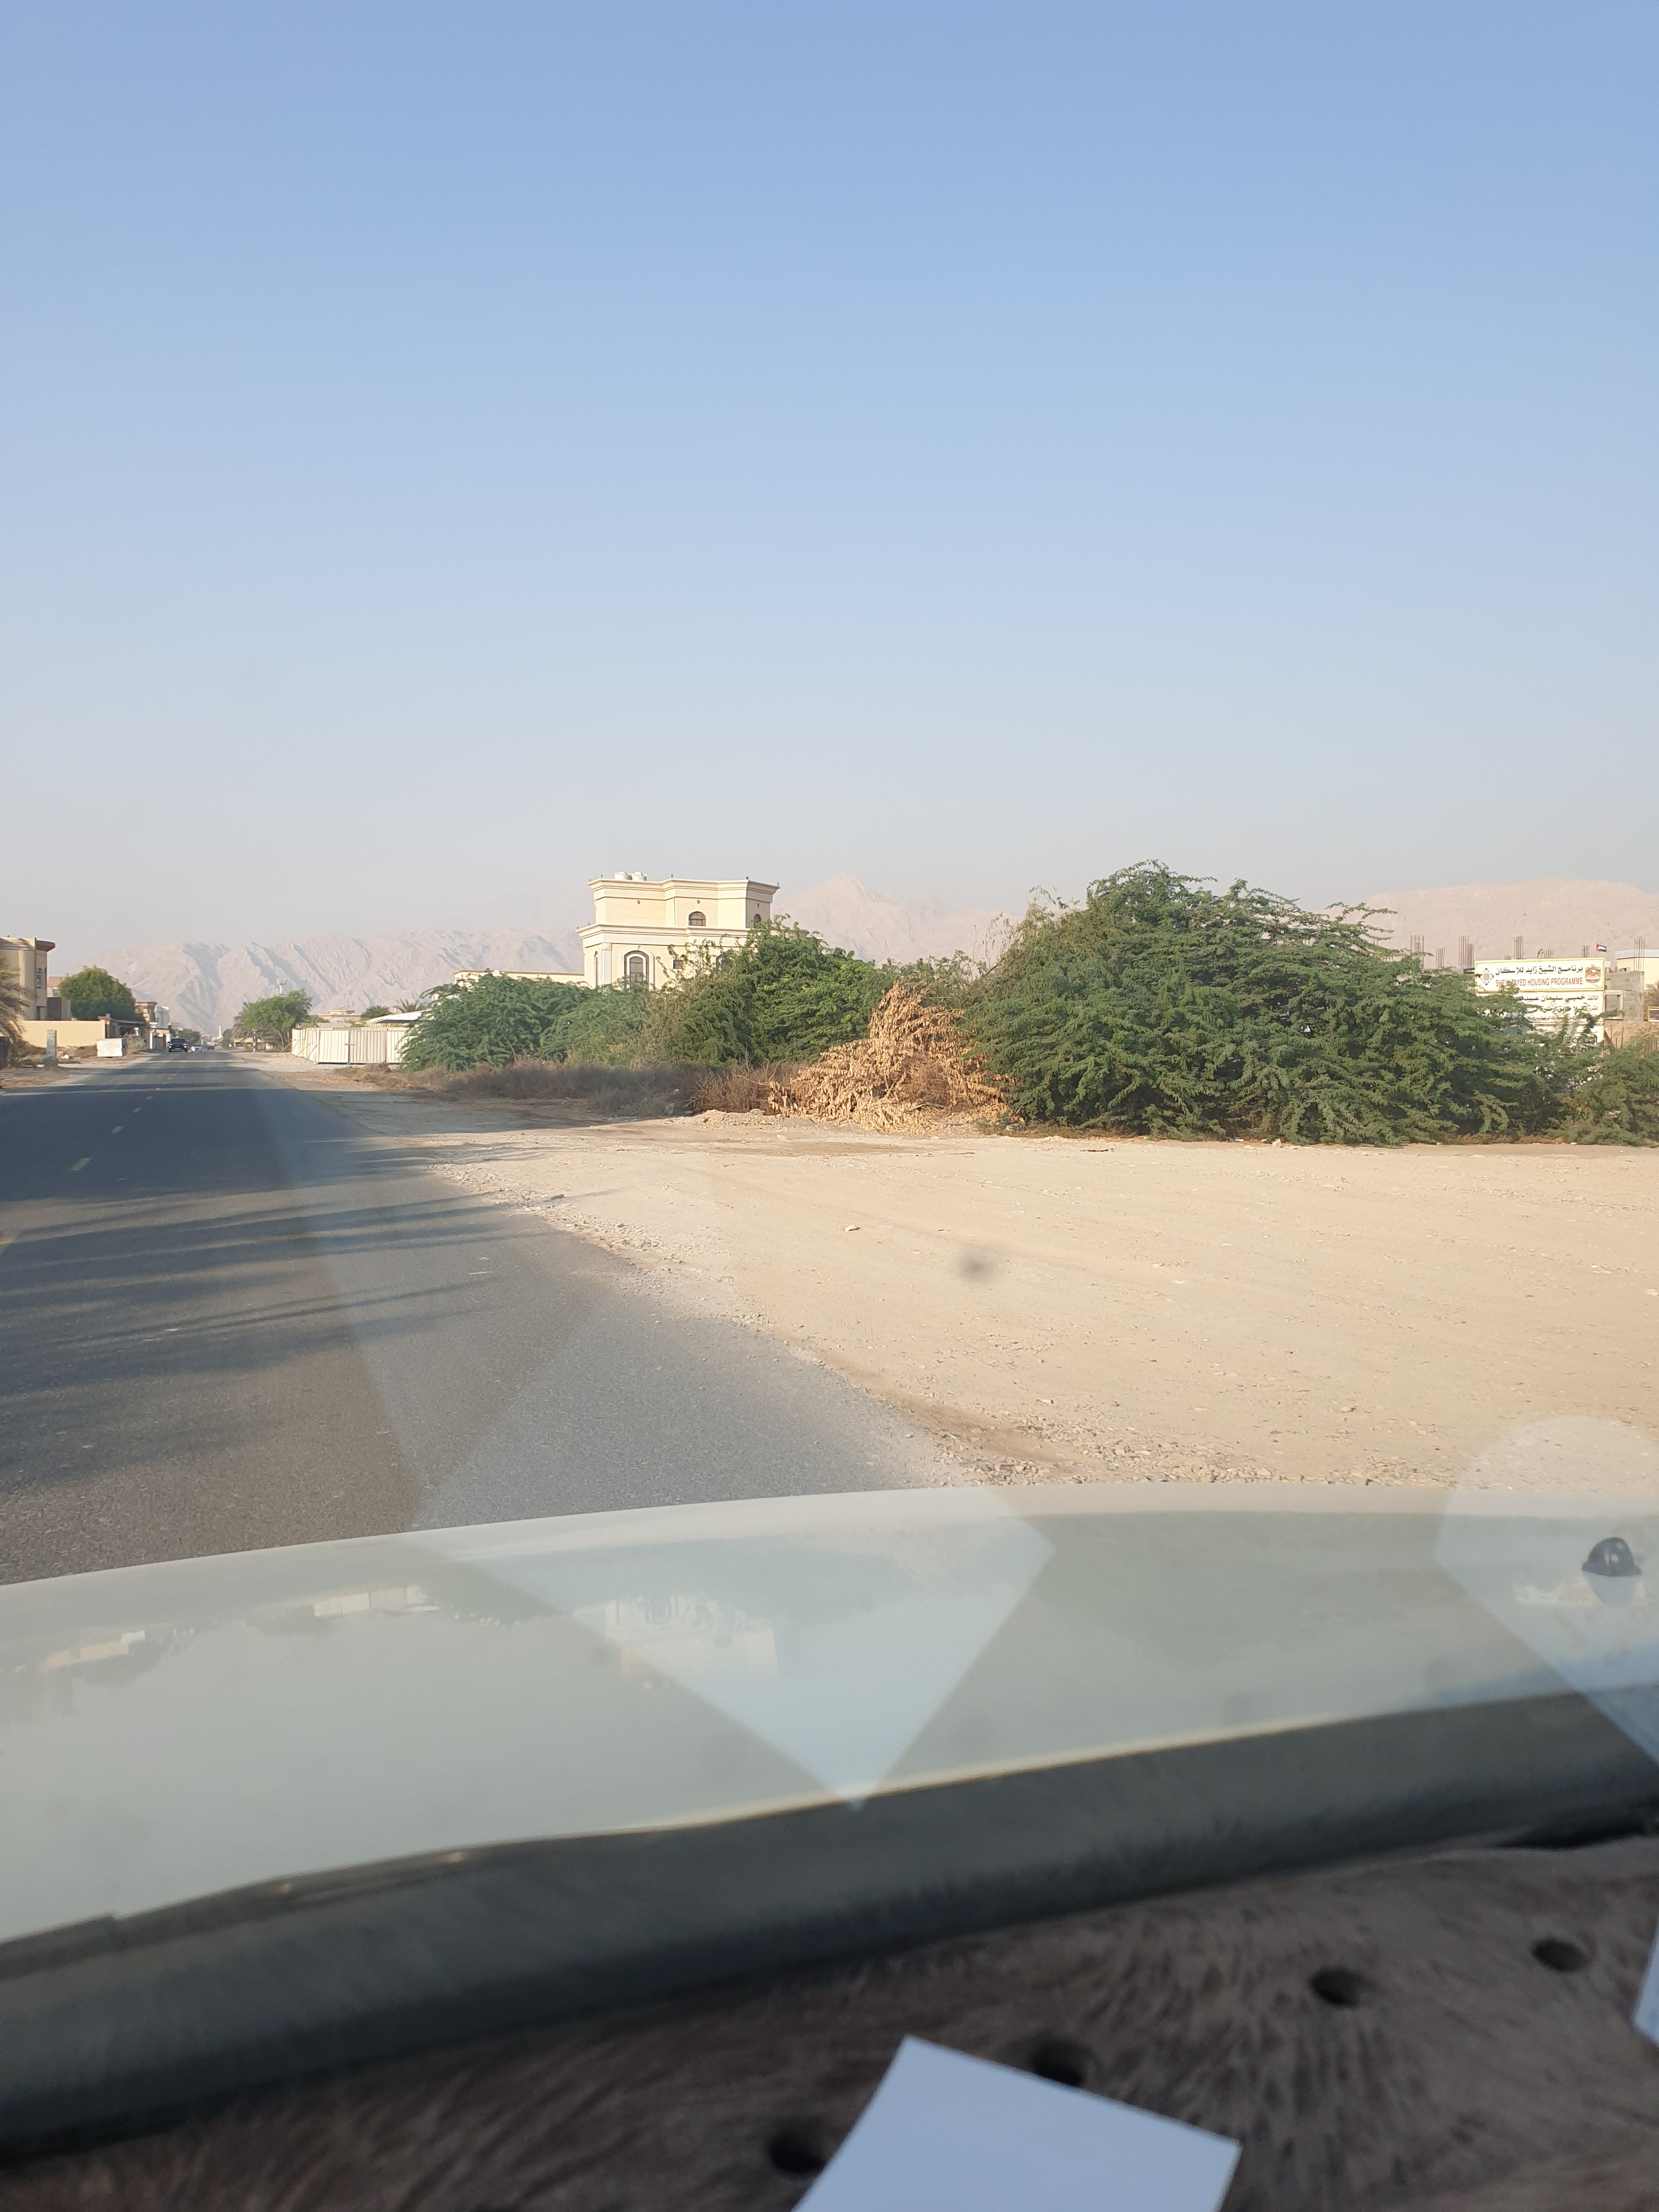fallen_trees: (765, 1082, 974, 1155)
